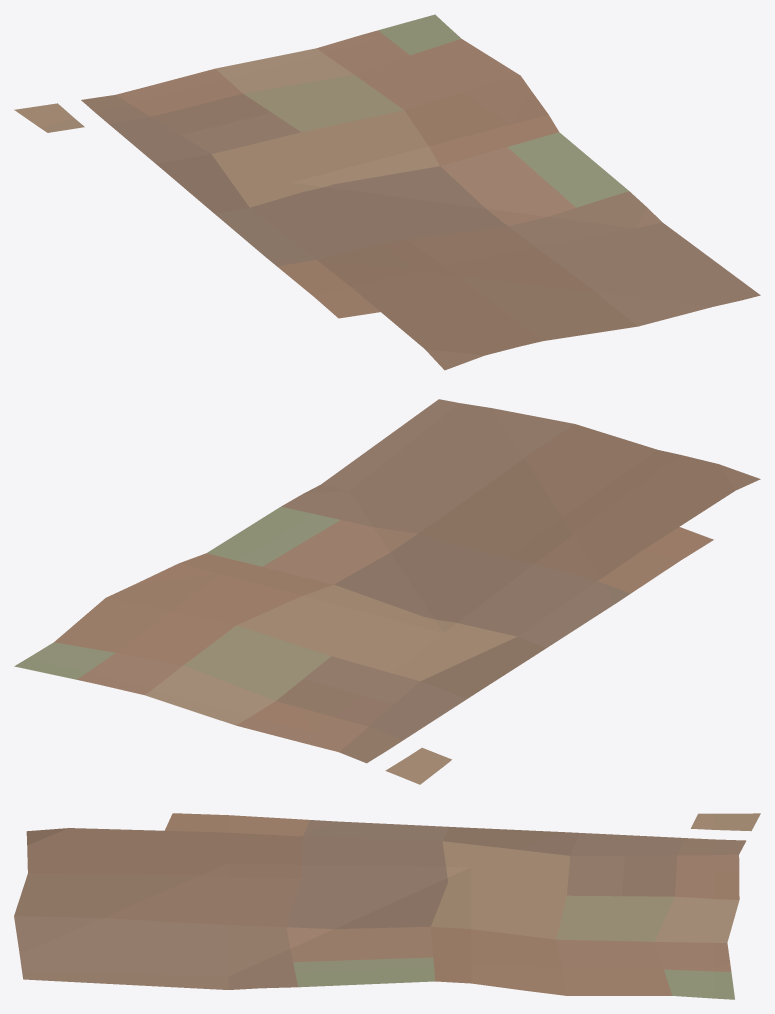
The model's file is farm_18_30_soil.glb.
3 views of the same model, one above another, from view 1: azimuth 30°, elevation 25°; view 2: azimuth 150°, elevation 25°; view 3: azimuth 270°, elevation 25° (orthographic). The views are drawn at different scales.
Visible parts, largest first — view 1: geometry_0; view 2: geometry_0; view 3: geometry_0.
Part boxes in pixels (x1,y1,x2,y2): geometry_0: (14,14,760,370); geometry_0: (14,399,760,784); geometry_0: (14,813,760,999).
Bounding box in the file's own units: 150 × 4.45 × 246.
